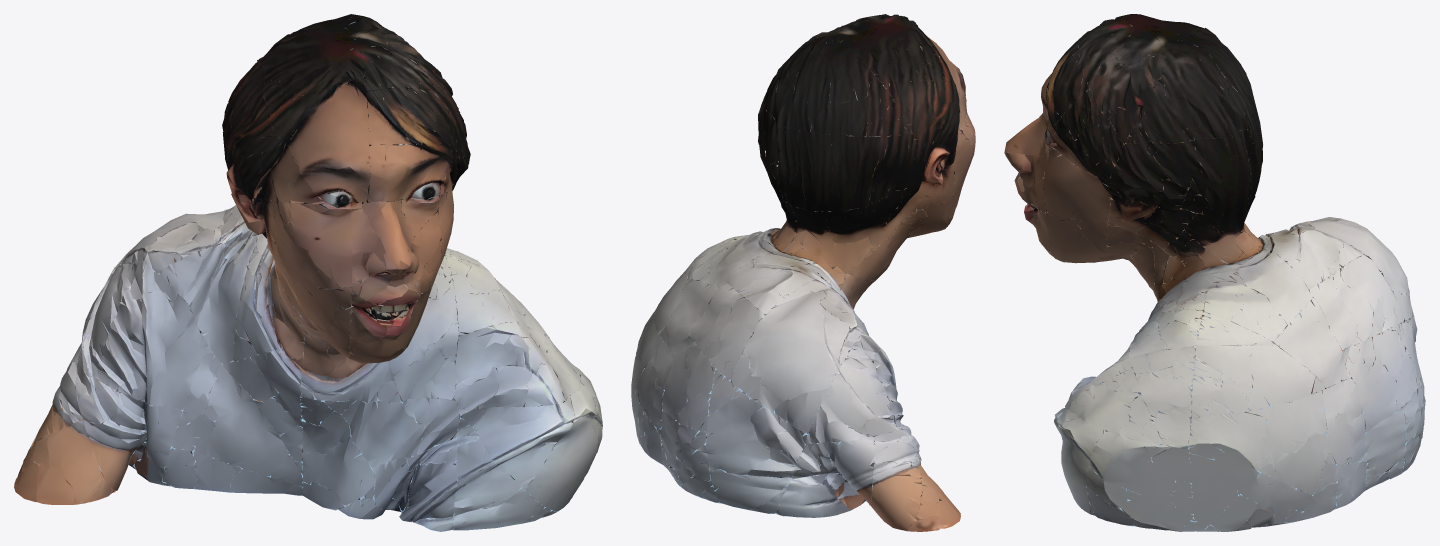
The model's file is murata.glb.
3 renders of one model, left to right at view 1: azimuth 30°, elevation 25°; view 2: azimuth 150°, elevation 25°; view 3: azimuth 270°, elevation 25°, orthographic. The views are drawn at different scales.
Parts seen in each view (by area): view 1: Result; view 2: Result; view 3: Result.
Boxes of the visible parts, x1,y1,x2,y2 form: Result: (14, 14, 602, 531); Result: (631, 14, 975, 531); Result: (1004, 14, 1425, 531).
Size of the model in its own units: 0.9648 by 1 by 0.9305.
Materials: 1 (1 with a texture image).
